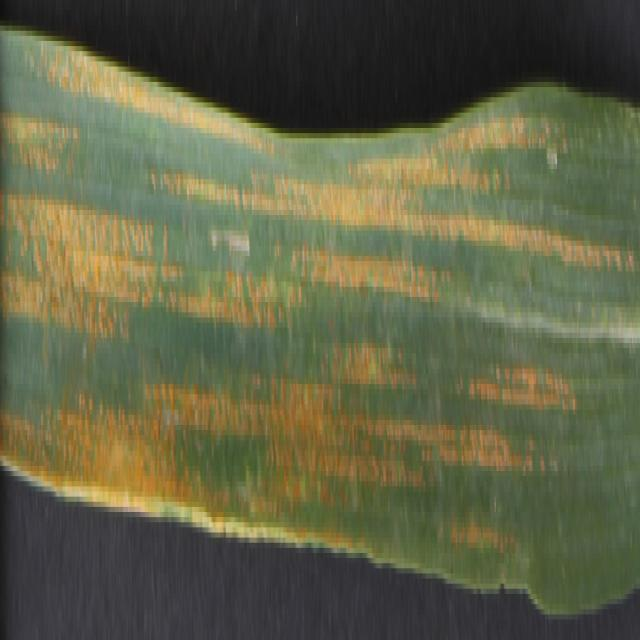leaf rust: (1, 5, 628, 620)
